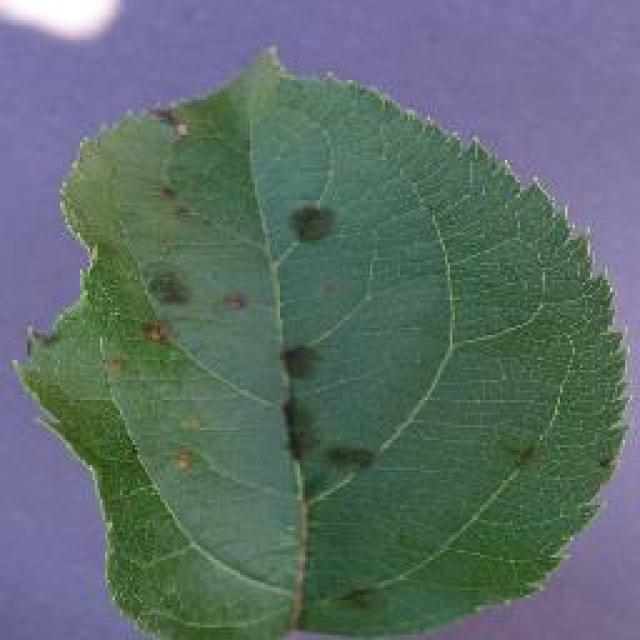apple scab disease: (12, 42, 630, 638)
